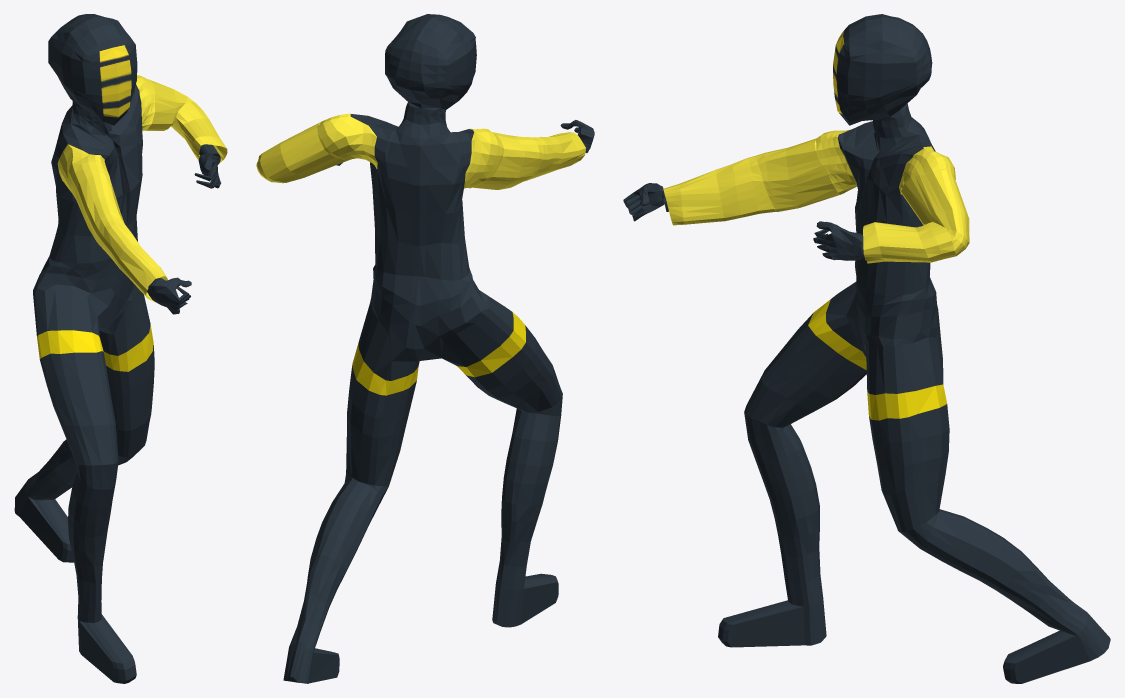
Rendered from Sentry_Attack_000002.obj.
3 renders of one model, left to right at view 1: azimuth 30°, elevation 25°; view 2: azimuth 150°, elevation 25°; view 3: azimuth 270°, elevation 25°, orthographic. The views are drawn at different scales.
Visible parts, largest first — view 1: Cube; view 2: Cube; view 3: Cube.
Part boxes in pixels (x1,y1,x2,y2): Cube: (14,14,227,683); Cube: (256,14,594,683); Cube: (623,14,1110,683).
Size of the model in its own units: 1.33 by 3.65 by 2.49.
